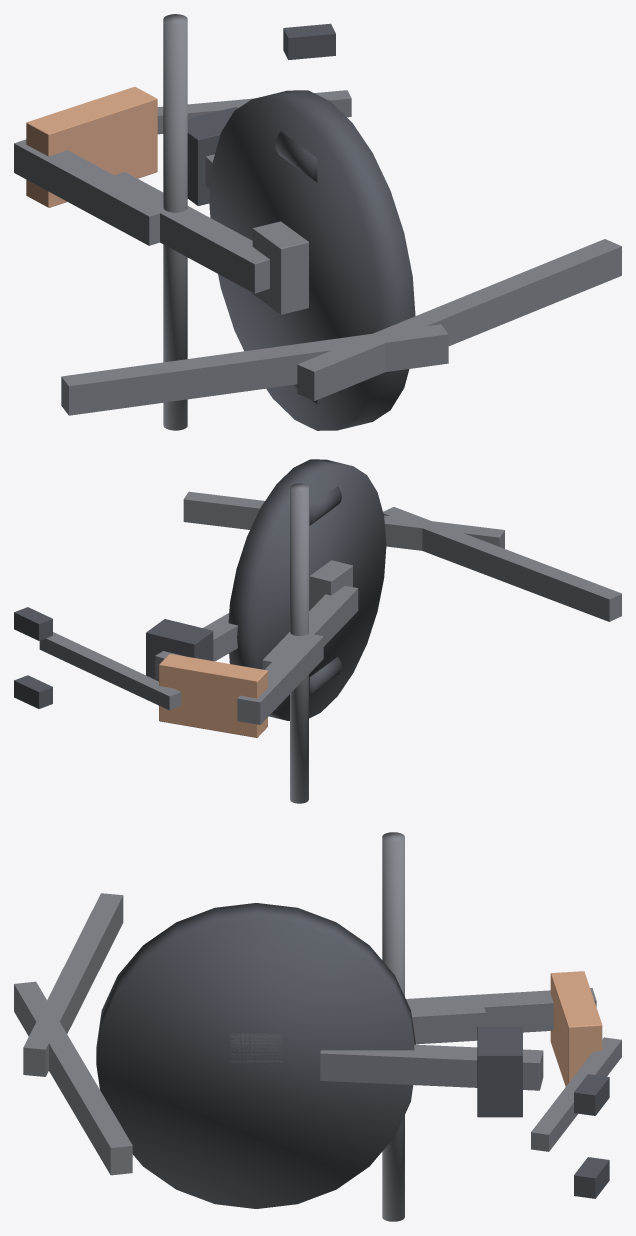
Rendered from spin_bike.glb.
3 renders of one model, top to bottom at view 1: azimuth 30°, elevation 25°; view 2: azimuth 150°, elevation 25°; view 3: azimuth 270°, elevation 25°, orthographic. The views are drawn at different scales.
Parts seen in each view (by area): view 1: flywheel, base_back, base_front, seat, axle, seat_post, main_frame, crank_cover, console, handlebar_grip_l, handlebar, pedal_left; view 2: flywheel, base_back, seat, axle, base_front, seat_post, handlebar, main_frame, console, crank_cover, handlebar_stem, handlebar_grip_l (+3 smaller); view 3: flywheel, handlebar_stem, base_front, base_back, axle, seat, console, seat_post, handlebar, main_frame, handlebar_grip_r, handlebar_grip_l (+1 smaller).
Boxes of the visible parts, left/top/right/bottom form: flywheel: left=209, top=90, right=415, bottom=430; base_back: left=61, top=324, right=448, bottom=415; base_front: left=297, top=239, right=621, bottom=400; seat: left=26, top=86, right=157, bottom=207; axle: left=163, top=14, right=187, bottom=430; seat_post: left=14, top=139, right=164, bottom=245; main_frame: left=105, top=172, right=269, bottom=293; crank_cover: left=252, top=221, right=308, bottom=314; console: left=187, top=107, right=238, bottom=205; handlebar_grip_l: left=283, top=23, right=335, bottom=59; handlebar: left=157, top=90, right=351, bottom=134; pedal_left: left=275, top=131, right=317, bottom=182; flywheel: left=228, top=459, right=386, bottom=720; base_back: left=383, top=507, right=621, bottom=621; seat: left=159, top=654, right=267, bottom=737; axle: left=290, top=483, right=308, bottom=803; base_front: left=183, top=491, right=504, bottom=550; seat_post: left=237, top=634, right=323, bottom=724; handlebar: left=39, top=632, right=180, bottom=710; main_frame: left=262, top=586, right=358, bottom=669; console: left=146, top=619, right=213, bottom=681; crank_cover: left=309, top=560, right=352, bottom=610; handlebar_stem: left=155, top=613, right=237, bottom=679; handlebar_grip_l: left=14, top=607, right=52, bottom=640; flywheel: left=96, top=903, right=415, bottom=1208; handlebar_stem: left=320, top=1044, right=543, bottom=1090; base_front: left=14, top=981, right=132, bottom=1175; base_back: left=23, top=893, right=123, bottom=1076; axle: left=382, top=832, right=404, bottom=1221; seat: left=550, top=971, right=602, bottom=1086; console: left=477, top=1026, right=522, bottom=1117; seat_post: left=406, top=988, right=596, bottom=1032; handlebar: left=531, top=1037, right=621, bottom=1151; main_frame: left=411, top=1007, right=485, bottom=1044; handlebar_grip_r: left=574, top=1157, right=609, bottom=1198; handlebar_grip_l: left=574, top=1074, right=609, bottom=1115.
Bounding box in the file's own units: 1.58 × 1.1 × 1.6.
